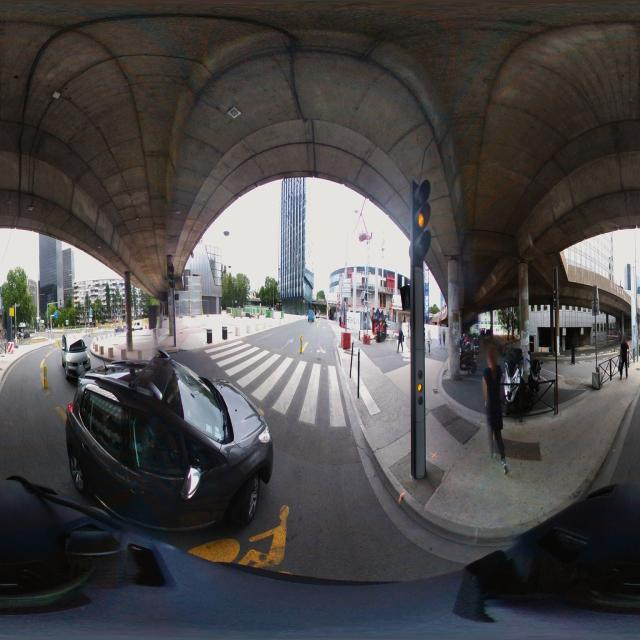car: (64, 347, 274, 557), (63, 338, 91, 382), (307, 300, 329, 320)
